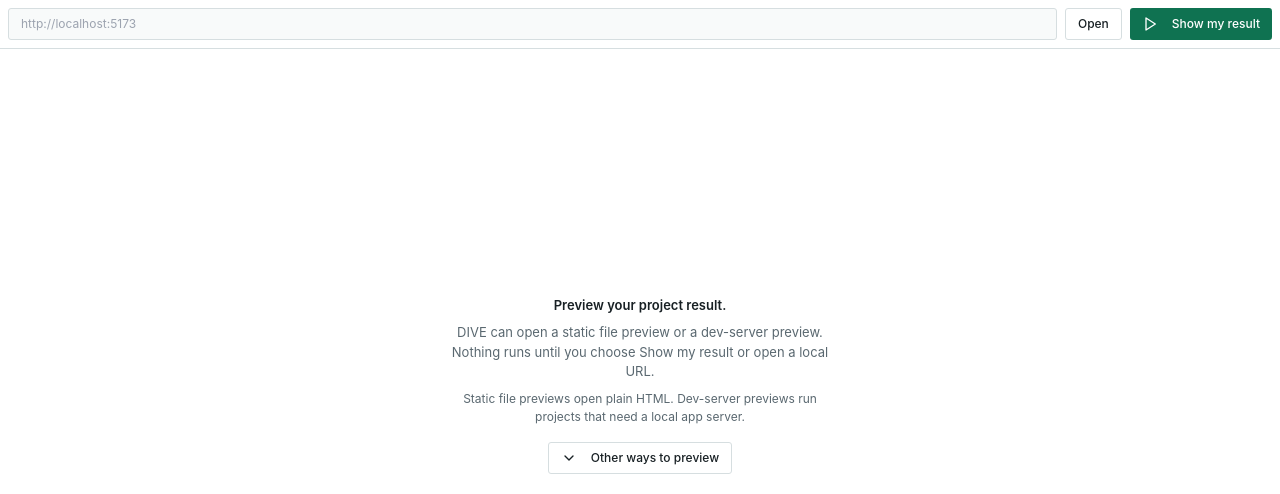
Test: PreviewTab › resolves backend reason codes to translated preview copy
Click the button with test id "preview-auto-connect": coordinates (1201, 24) [1130, 8, 1272, 40]
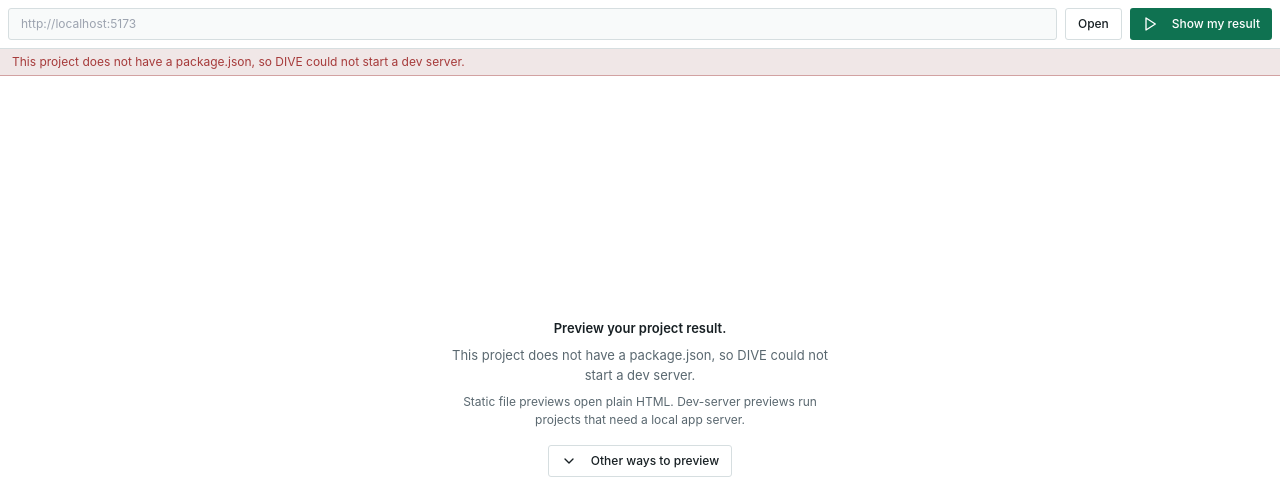
Check: the text with test id "preview-error" shows "This project does not have a package.json", box [12, 54, 465, 69]
